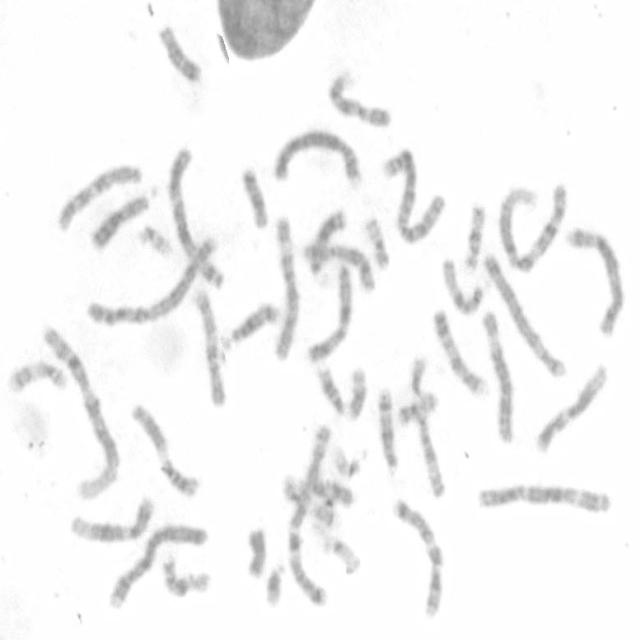A1: (38, 320, 122, 503), (494, 179, 568, 273)
A2: (82, 229, 224, 329), (379, 142, 447, 247)
A3: (164, 141, 226, 291), (474, 480, 612, 517)
B4: (105, 518, 210, 612), (270, 124, 362, 188)
B5: (481, 249, 568, 379), (563, 223, 626, 338)
C10: (52, 158, 142, 234), (190, 282, 228, 410)
C11: (126, 397, 202, 500), (312, 361, 368, 421)
C12: (530, 359, 610, 456), (66, 492, 156, 546)
C6: (478, 306, 516, 447), (270, 212, 302, 364)
C7: (388, 493, 446, 622), (284, 486, 329, 606)
C8: (297, 425, 345, 529), (302, 238, 376, 295)
C9: (431, 306, 490, 398), (324, 66, 394, 129)
D13: (87, 181, 160, 252), (306, 206, 348, 276)
D14: (227, 298, 280, 346), (375, 383, 400, 475)
D15: (438, 254, 486, 316), (414, 414, 448, 501)
E16: (158, 551, 214, 598), (460, 198, 486, 271)
E17: (278, 466, 341, 532), (4, 354, 70, 396)
E18: (155, 20, 204, 86), (238, 162, 270, 230)
F19: (317, 531, 363, 577), (313, 475, 339, 530)
F20: (394, 386, 439, 428), (362, 213, 391, 271)
G21: (406, 352, 434, 407), (261, 559, 286, 609)
G22: (135, 220, 174, 259), (329, 442, 365, 479)
X: (303, 260, 361, 365)
Y: (242, 521, 268, 581)
